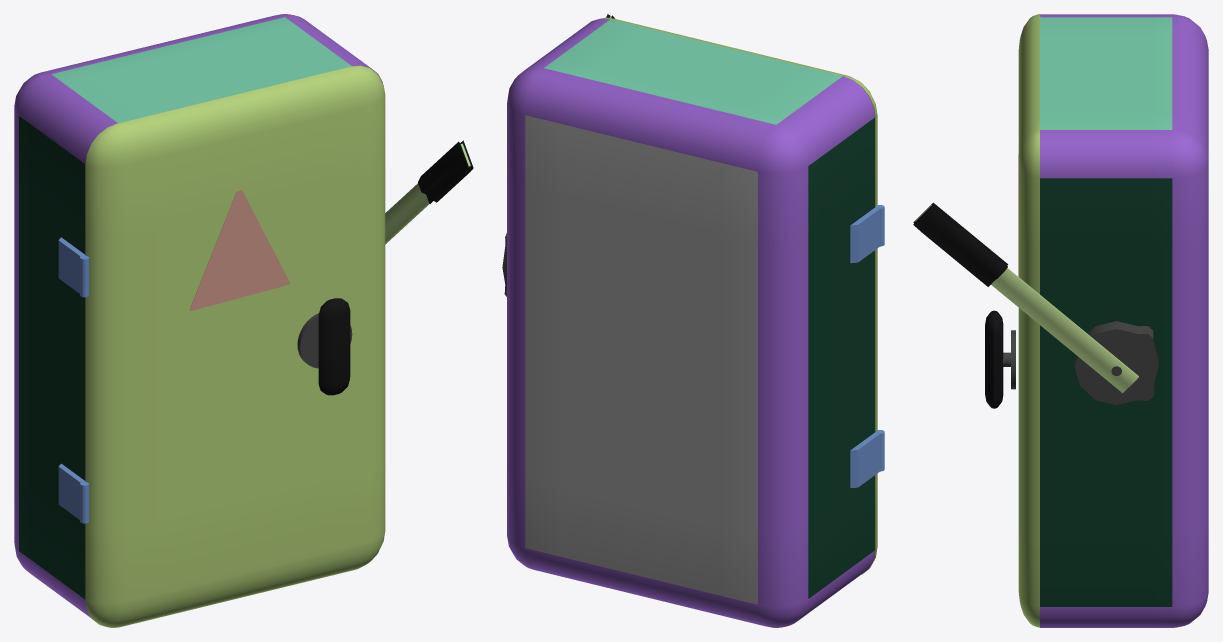
File: Soviet_Electro_box.fbx
The picture shows the model from 3 angles, left to right: view 1: azimuth 30°, elevation 25°; view 2: azimuth 150°, elevation 25°; view 3: azimuth 270°, elevation 25°; orthographic projection.
Parts seen in each view (by area): view 1: Door, Box, Sign, lever_arm, Объект_Капсула, door_hinges, Объект_Цилиндр_4; view 2: Box, door_hinges, Door; view 3: Box, Door, lever_arm, Объект_Цилиндр_2, Объект_Капсула.
Part boxes in pixels (x1,y1,x2,y2): Door: (85, 65, 385, 627); Box: (14, 14, 382, 617); Sign: (190, 189, 289, 310); lever_arm: (385, 140, 473, 244); Объект_Капсула: (318, 298, 350, 395); door_hinges: (58, 237, 89, 523); Объект_Цилиндр_4: (297, 313, 352, 368); Box: (507, 18, 874, 627); door_hinges: (850, 205, 884, 488); Door: (601, 17, 877, 574); Box: (1040, 14, 1208, 627); Door: (1018, 14, 1040, 627); lever_arm: (913, 202, 1138, 393); Объект_Цилиндр_2: (1074, 321, 1158, 405); Объект_Капсула: (985, 310, 1003, 408).
Size of the model in its own units: 139 by 200 by 108.
